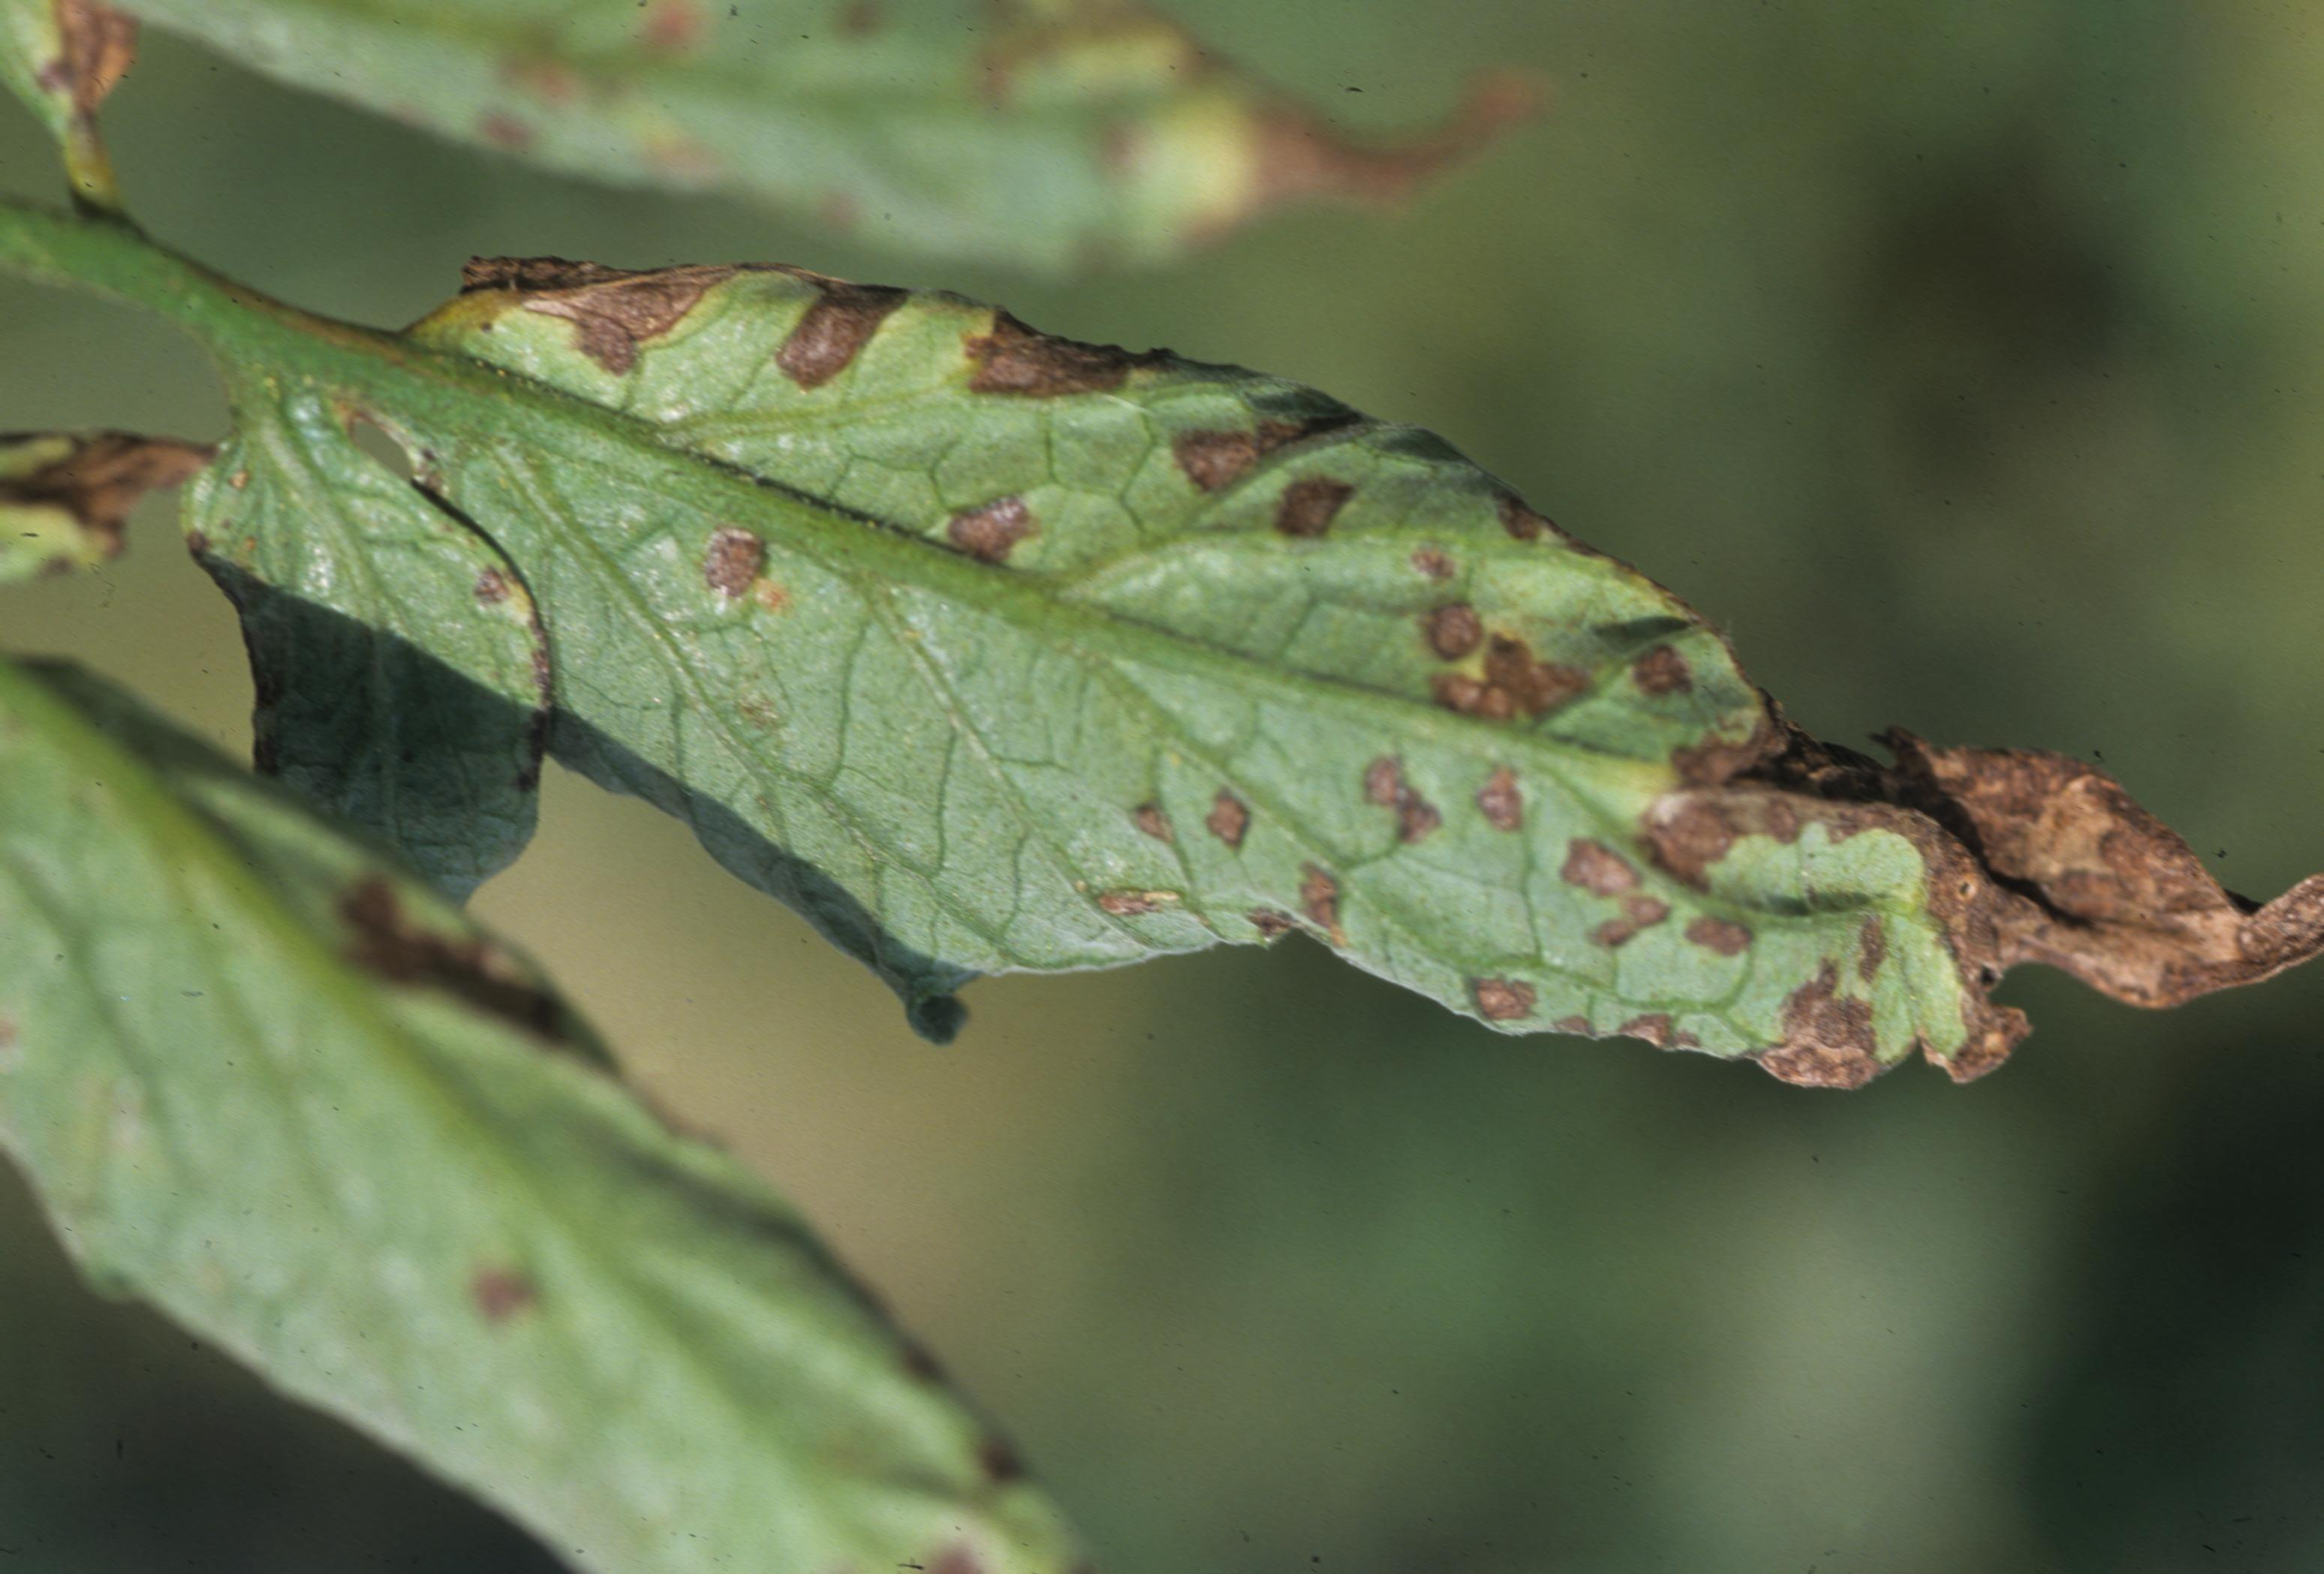Tomato leaf bacterial spot: (191, 177, 2296, 1123)
